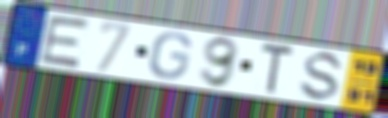7: (94, 19, 136, 75)
9: (196, 36, 242, 89)
E: (37, 13, 94, 70)
G: (147, 31, 195, 81)
S: (296, 50, 348, 103)
T: (259, 40, 297, 96)
